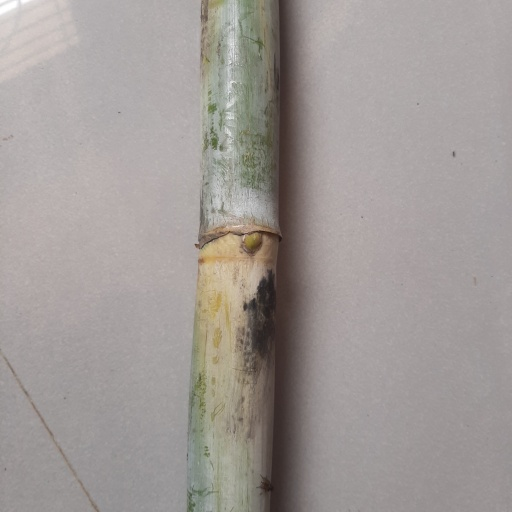Bud: (241, 232, 263, 259)
